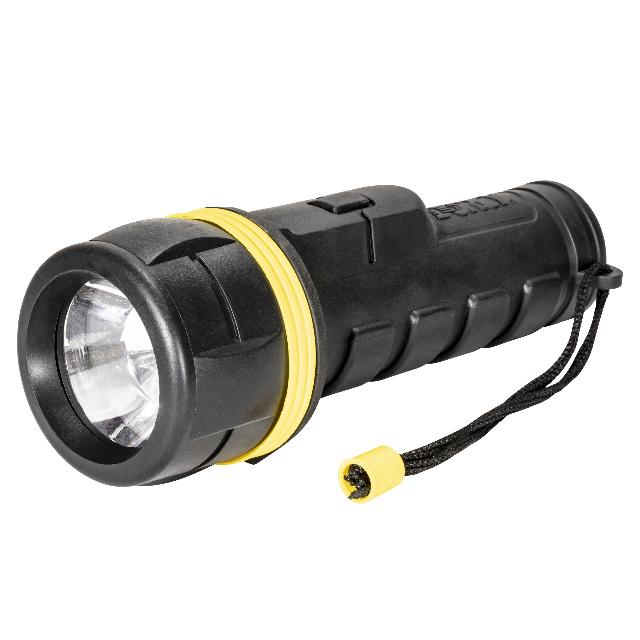Flashlight: (2, 165, 640, 513)
